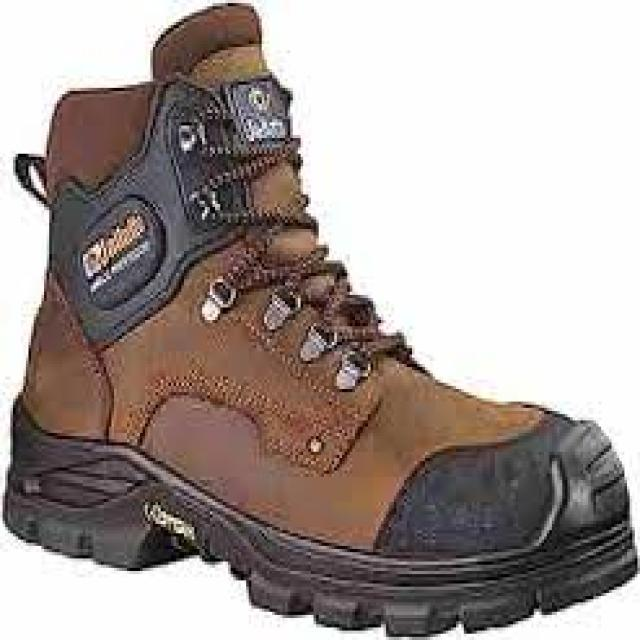shoes: (7, 6, 633, 633)
